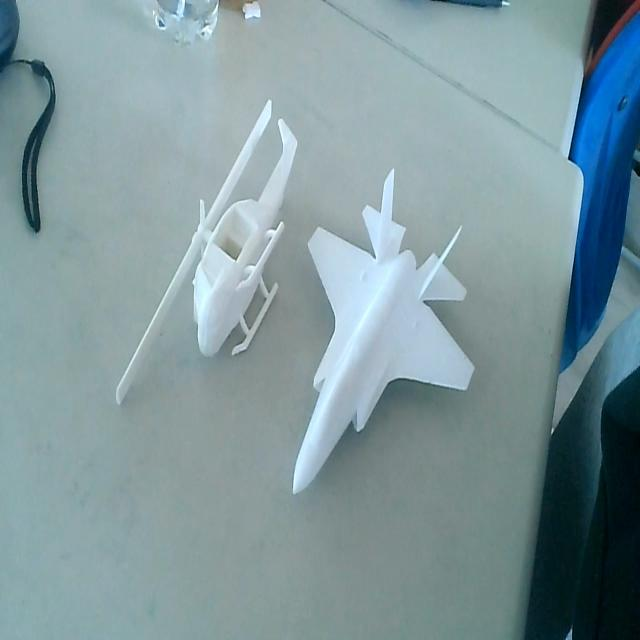Helicopter: (113, 92, 301, 417)
Jet: (292, 165, 476, 496)
